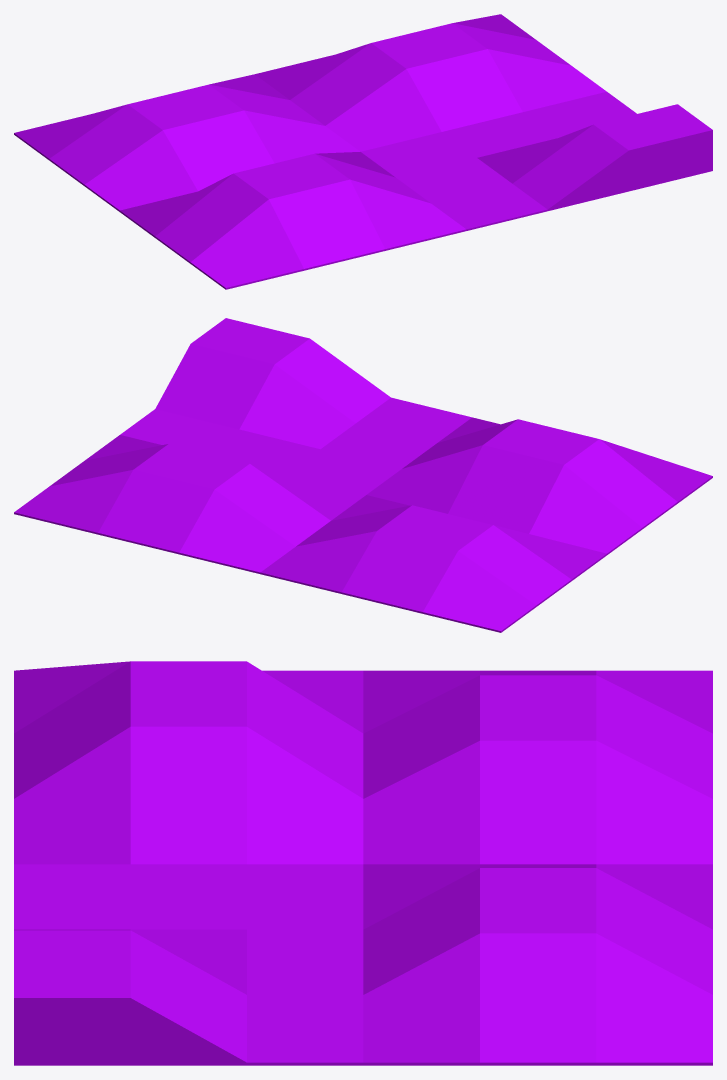
Rendered from floor_basic.gltf.
3 renders of one model, top to bottom at view 1: azimuth 30°, elevation 25°; view 2: azimuth 150°, elevation 25°; view 3: azimuth 270°, elevation 25°, orthographic. The views are drawn at different scales.
Visible parts, largest first — view 1: Cube; view 2: Cube; view 3: Cube.
Boxes of the visible parts, x1=… form: Cube: x1=14, y1=14, x2=712, y2=289; Cube: x1=14, y1=318, x2=712, y2=632; Cube: x1=14, y1=661, x2=712, y2=1065.
Bounding box in the file's own units: 44.38 × 3.97 × 33.45.
1 material, 1 textured.
